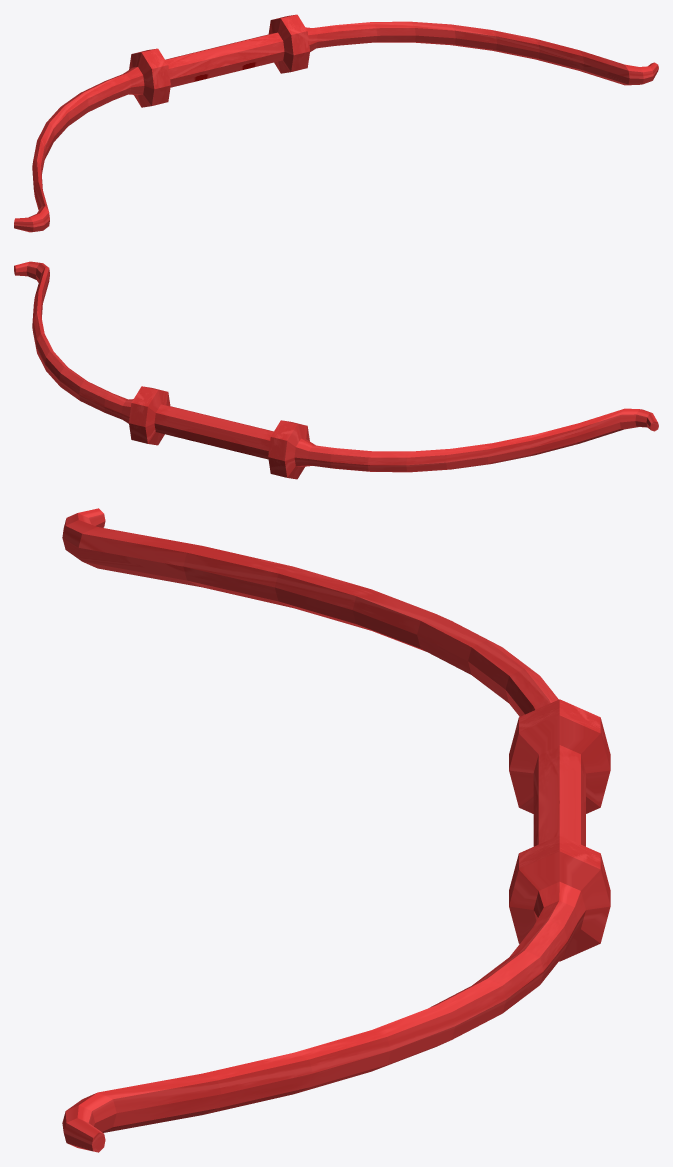
Rendered from BOW.fbx.
The picture shows the model from 3 angles, top to bottom: view 1: azimuth 30°, elevation 25°; view 2: azimuth 150°, elevation 25°; view 3: azimuth 270°, elevation 25°; orthographic projection. The views are drawn at different scales.
Visible parts, largest first — view 1: Model; view 2: Model; view 3: Model.
Part boxes in pixels (x1,y1,x2,y2): Model: (14,14,658,232); Model: (14,261,658,479); Model: (62,508,610,1152).
Size of the model in its own units: 282 by 23.09 by 104.
1 material, 1 textured.
